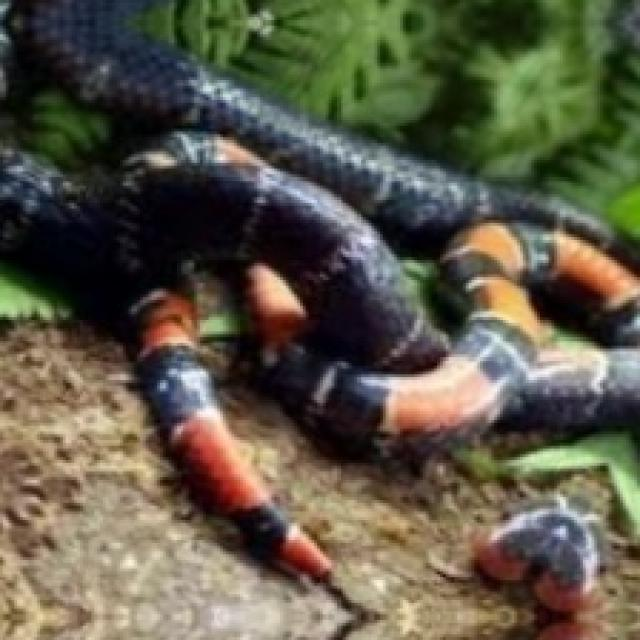barredcoral snake: (0, 0, 640, 582), (474, 500, 602, 640)
